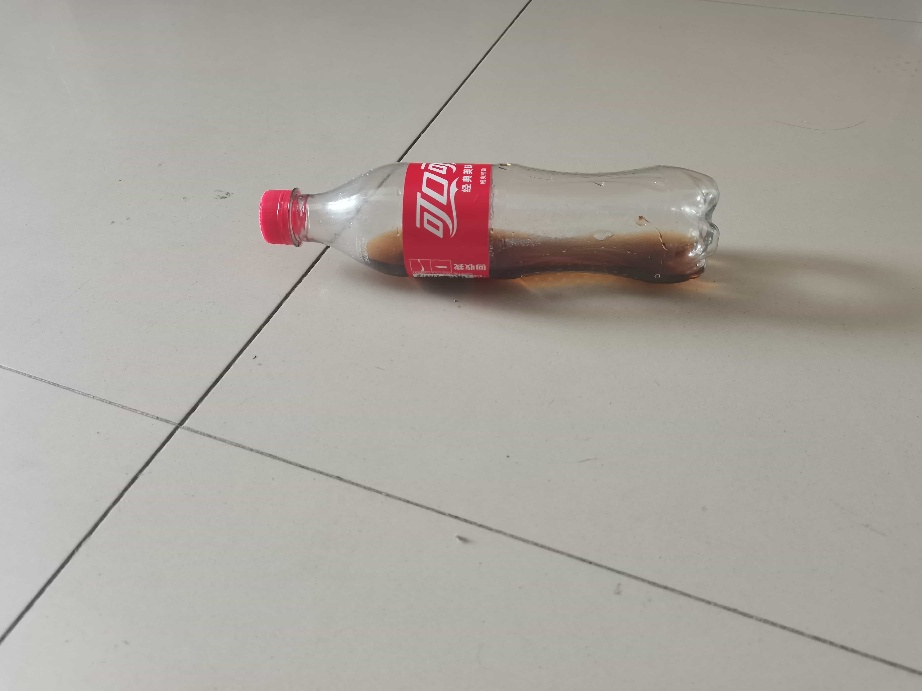plastic bottle: (252, 154, 730, 295)
